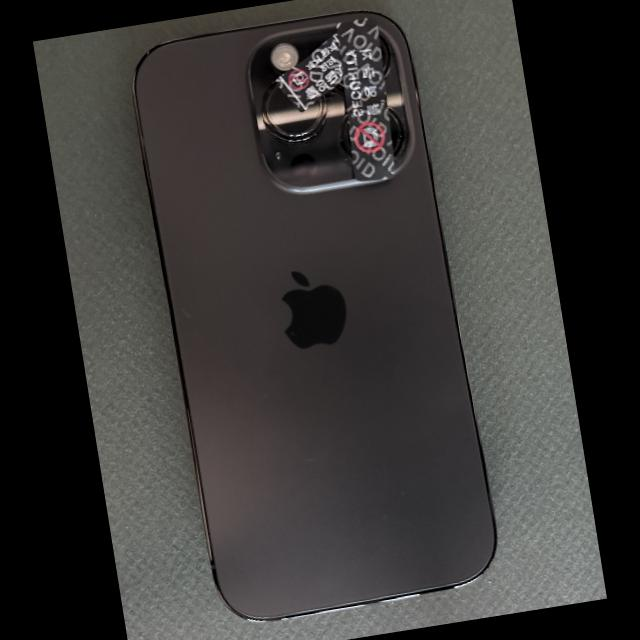lens: (262, 84, 327, 141), (387, 108, 404, 158), (378, 33, 391, 76)
phone: (132, 9, 498, 623)
sticker: (336, 17, 395, 182), (274, 28, 344, 112)
